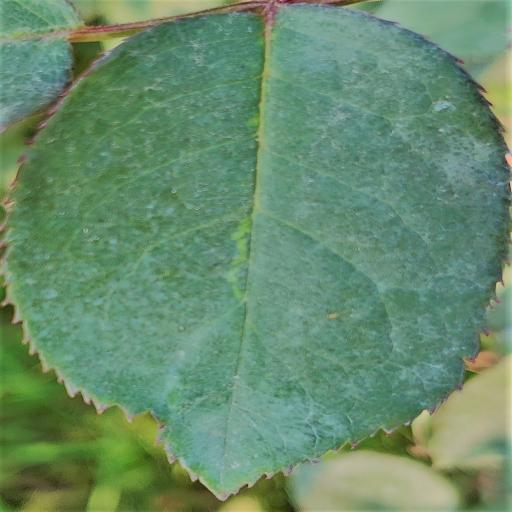healthy_leaf: (1, 0, 510, 498)
